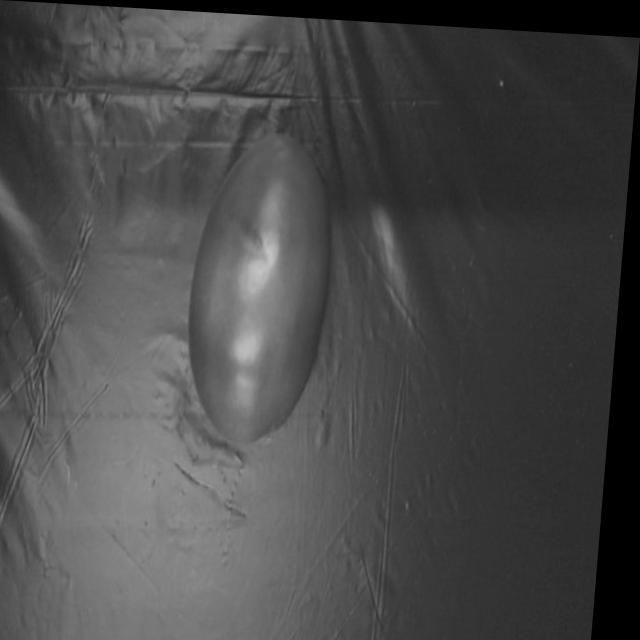sari: (169, 123, 364, 459)
